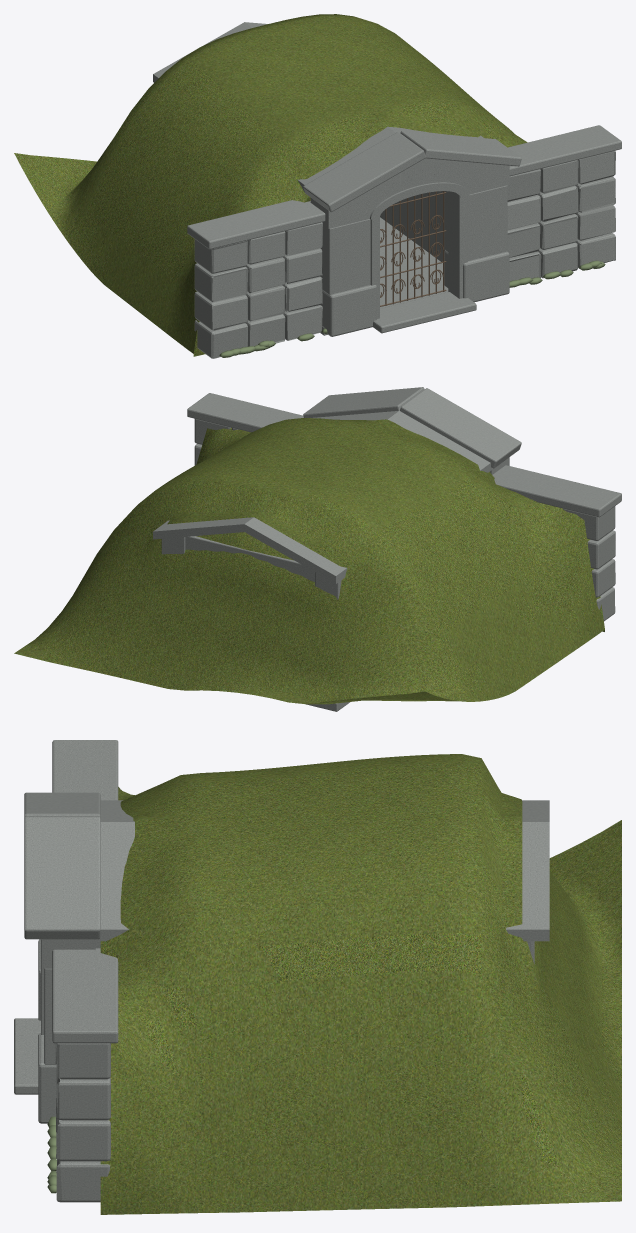
Rendered from davis-hillside-vault.glb.
The picture shows the model from 3 angles, top to bottom: view 1: azimuth 30°, elevation 25°; view 2: azimuth 150°, elevation 25°; view 3: azimuth 270°, elevation 25°; orthographic projection. The views are drawn at different scales.
Visible parts, largest first — view 1: davis-hillside-vault Davis bank grass, davis-hillside-vault Davis weathered gray granite, davis-hillside-vault Davis dressed stone, davis-hillside-vault Davis aged iron, davis-hillside-vault Davis stone moss; view 2: davis-hillside-vault Davis bank grass, davis-hillside-vault Davis dressed stone, davis-hillside-vault Davis weathered gray granite; view 3: davis-hillside-vault Davis bank grass, davis-hillside-vault Davis dressed stone, davis-hillside-vault Davis weathered gray granite.
Part boxes in pixels (x1=…): davis-hillside-vault Davis bank grass: x1=14, y1=14, x2=527, y2=356; davis-hillside-vault Davis weathered gray granite: x1=153, y1=22, x2=615, y2=358; davis-hillside-vault Davis dressed stone: x1=187, y1=125, x2=621, y2=318; davis-hillside-vault Davis aged iron: x1=380, y1=191, x2=446, y2=306; davis-hillside-vault Davis stone moss: x1=219, y1=260, x2=605, y2=357; davis-hillside-vault Davis bank grass: x1=14, y1=418, x2=604, y2=704; davis-hillside-vault Davis dressed stone: x1=187, y1=387, x2=621, y2=517; davis-hillside-vault Davis weathered gray granite: x1=153, y1=410, x2=615, y2=711; davis-hillside-vault Davis bank grass: x1=100, y1=754, x2=621, y2=1214; davis-hillside-vault Davis dressed stone: x1=24, y1=740, x2=118, y2=1064; davis-hillside-vault Davis weathered gray granite: x1=14, y1=800, x2=549, y2=1202.
Bounding box in the file's own units: 8.72 × 3.86 × 7.66.
Materials: 6 (3 with a texture image).
